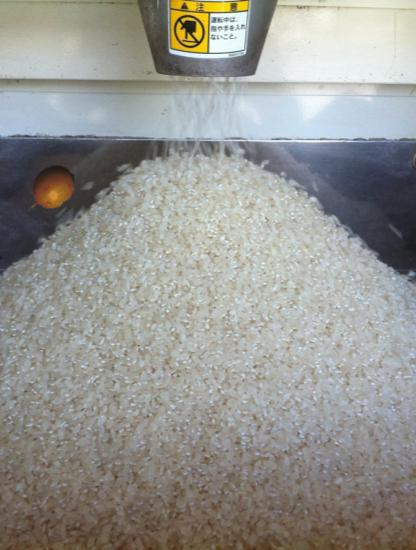Granadilla: (19, 160, 79, 220)
